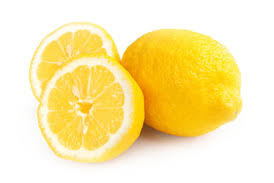Lemon: (118, 23, 250, 138)
